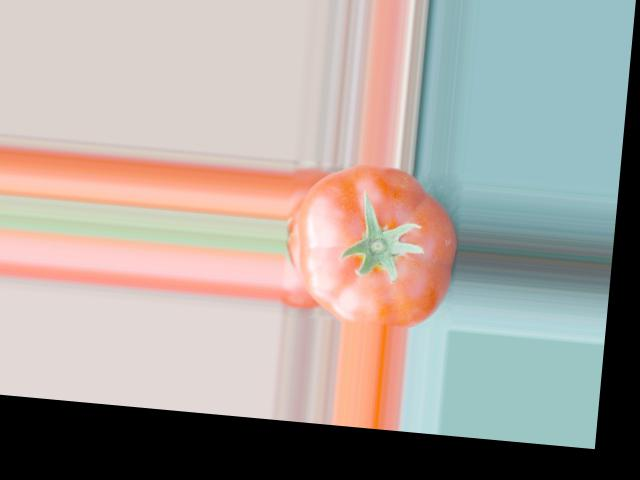tomato: (289, 157, 462, 331)
